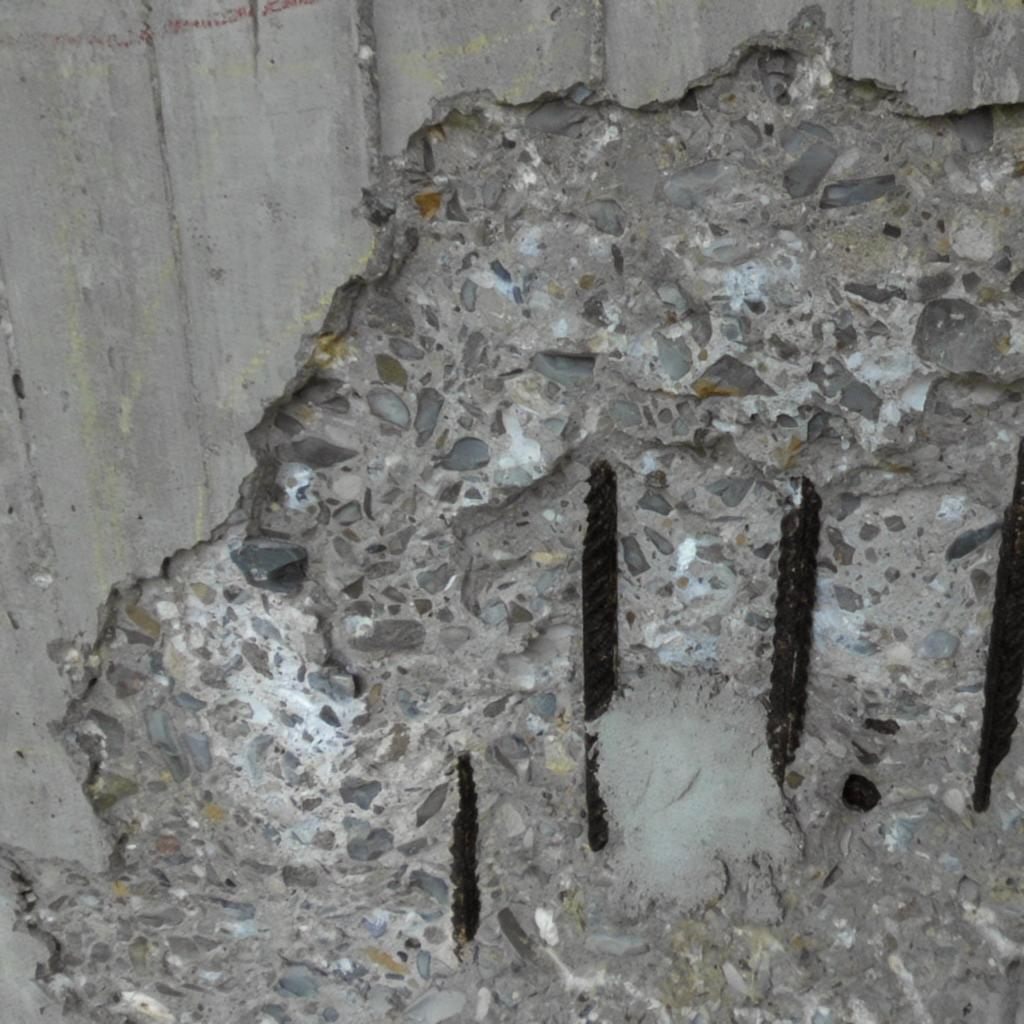exposed_rebar: (972, 438, 1024, 811), (766, 478, 822, 783), (582, 460, 618, 723), (450, 752, 480, 955), (584, 730, 608, 852), (842, 774, 880, 811)
spalling: (20, 28, 1024, 1024)
